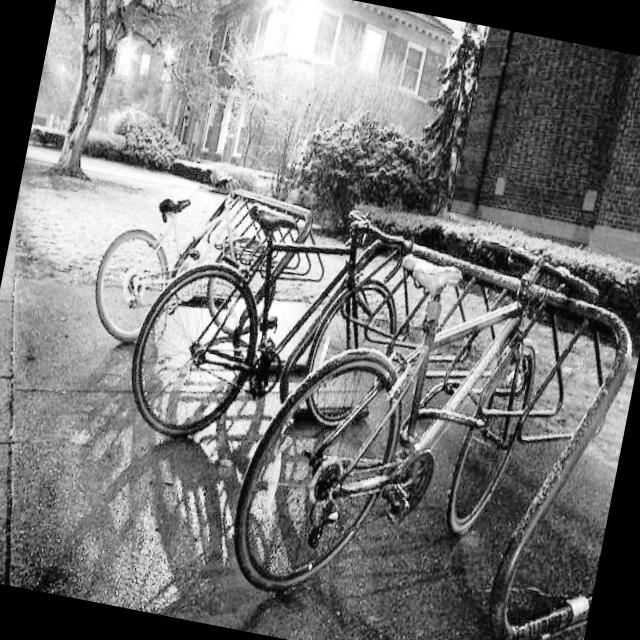Bicycle: (206, 223, 621, 640), (98, 196, 419, 523), (63, 160, 311, 373)
Tree: (38, 0, 143, 182)
